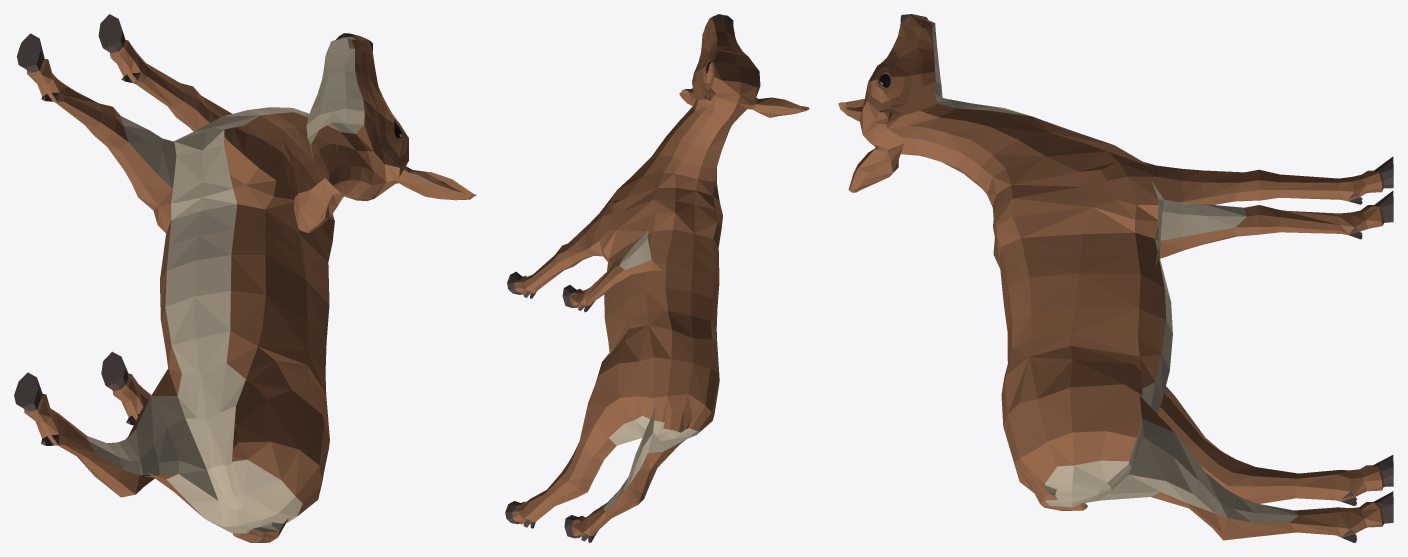
The model's file is deer-idle-3.glb.
3 renders of one model, left to right at view 1: azimuth 30°, elevation 25°; view 2: azimuth 150°, elevation 25°; view 3: azimuth 270°, elevation 25°, orthographic. The views are drawn at different scales.
Bounding box in the file's own units: 0.4769 × 1.45 × 1.42.
